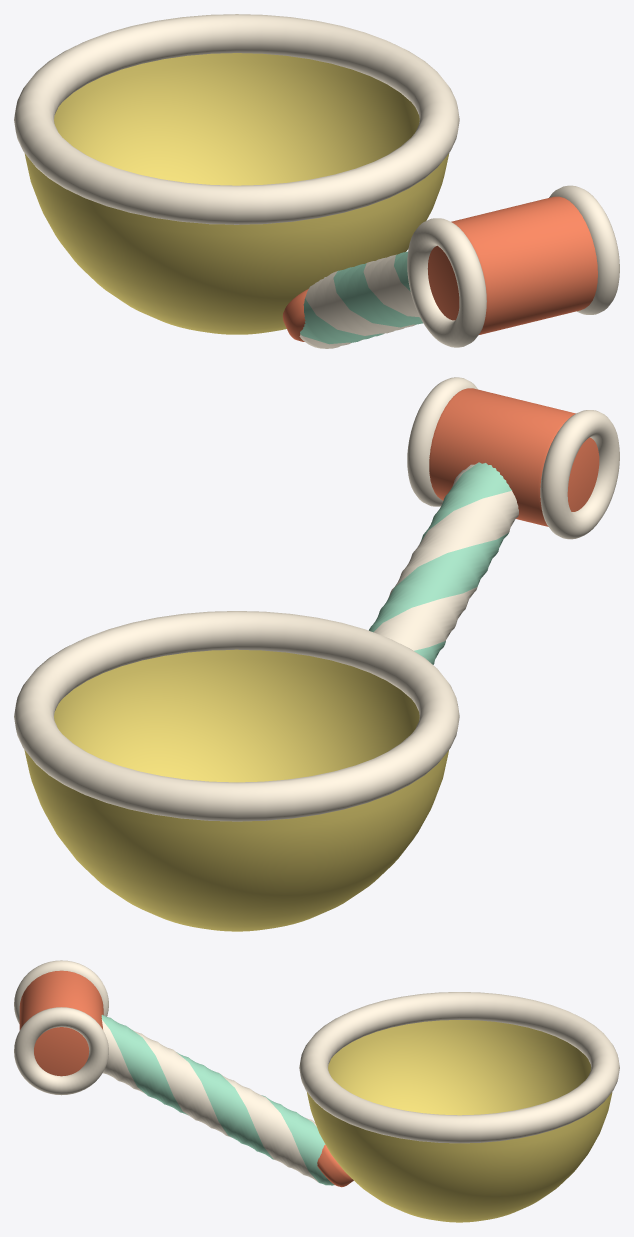
Rendered from catapult_arm.glb.
3 views of the same model, one above another, from view 1: azimuth 30°, elevation 25°; view 2: azimuth 150°, elevation 25°; view 3: azimuth 270°, elevation 25° (orthographic). The views are drawn at different scales.
Parts seen in each view (by area): view 1: catapult_arm; view 2: catapult_arm; view 3: catapult_arm.
Part boxes in pixels (x1=…): catapult_arm: x1=14, y1=14, x2=619, y2=348; catapult_arm: x1=14, y1=377, x2=619, y2=931; catapult_arm: x1=14, y1=960, x2=619, y2=1222.
Size of the model in its own units: 1.45 by 1.11 by 2.74.
